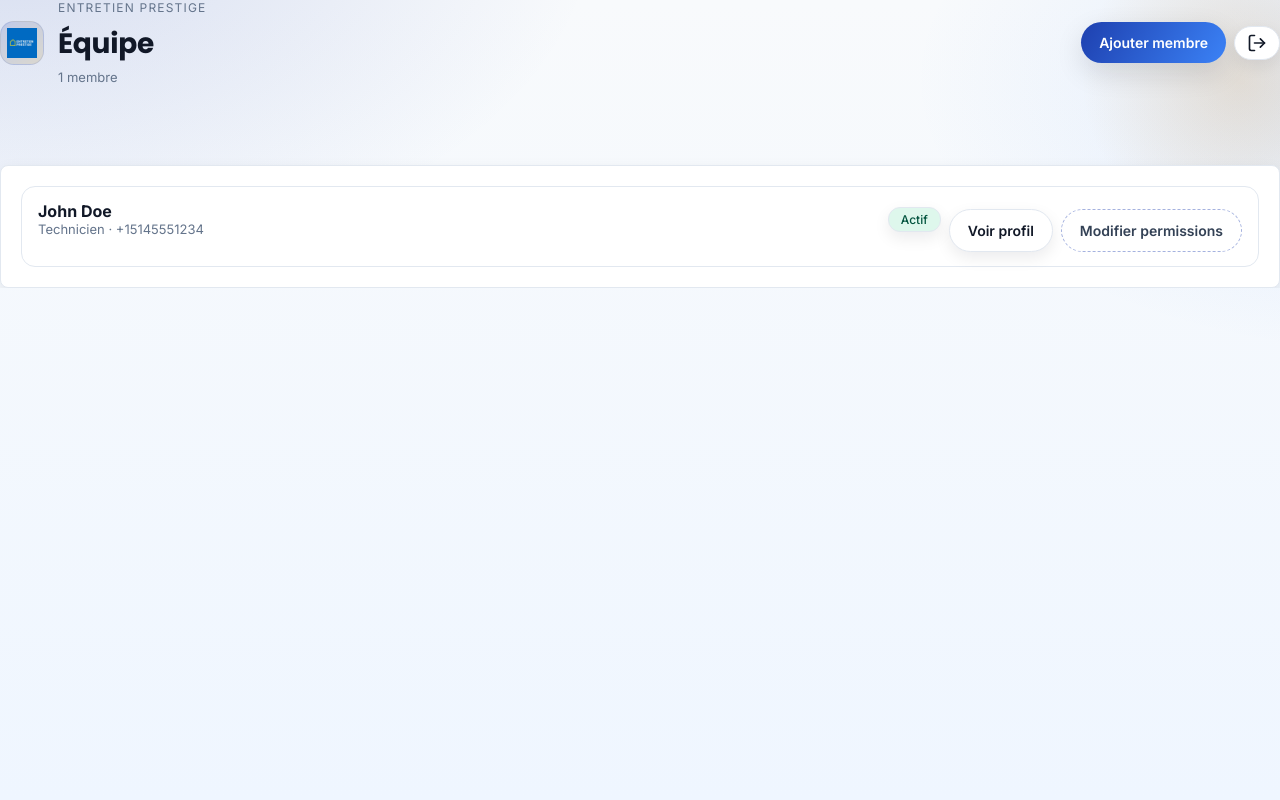
Scenario: Phase 1: Team Page Permissions Modal › should open permissions modal when clicking edit button
Expected: the text "John Doe" is shown, [38,201,112,221]
// Click "Modifier permissions" button
Click the button "Modifier permissions".
click(1151, 230)  # box [1061,209,1242,252]
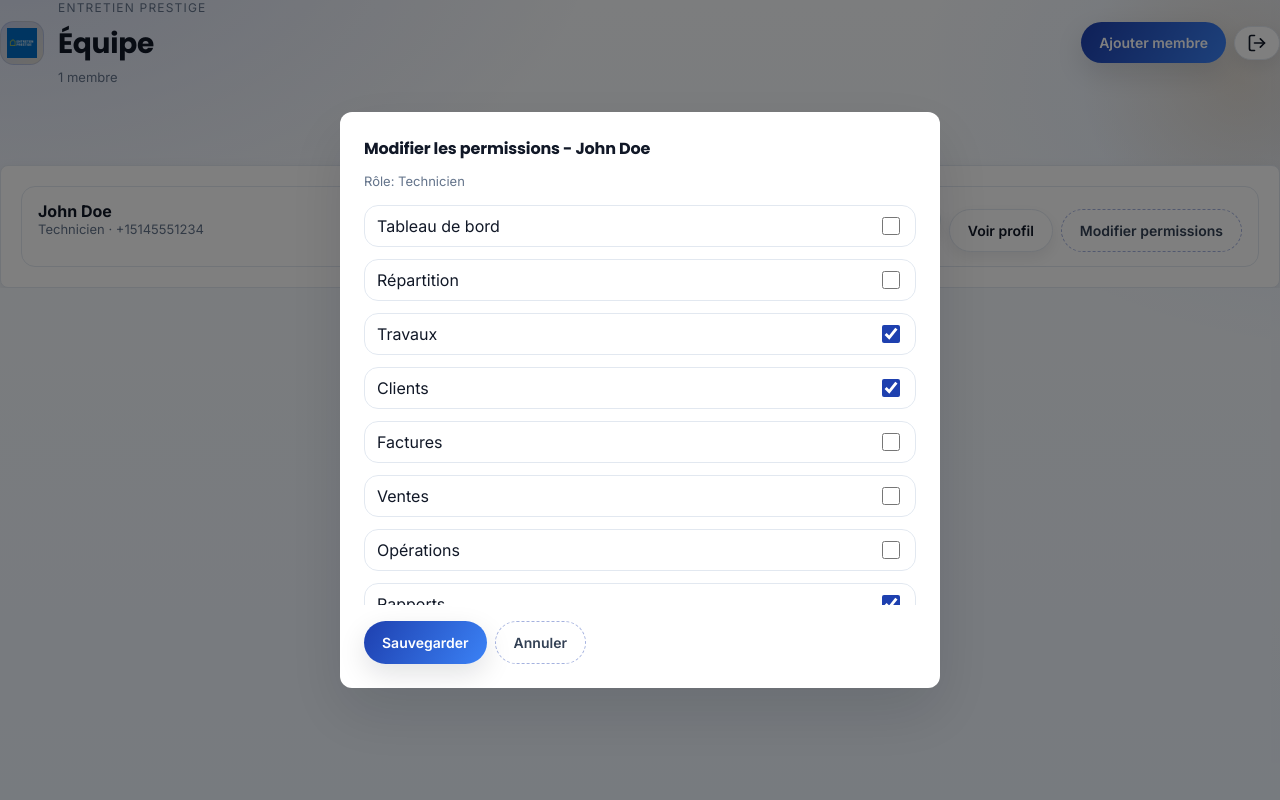
Now the heading "Modifier les permissions - John Doe" is shown, box [364,137,650,160]
